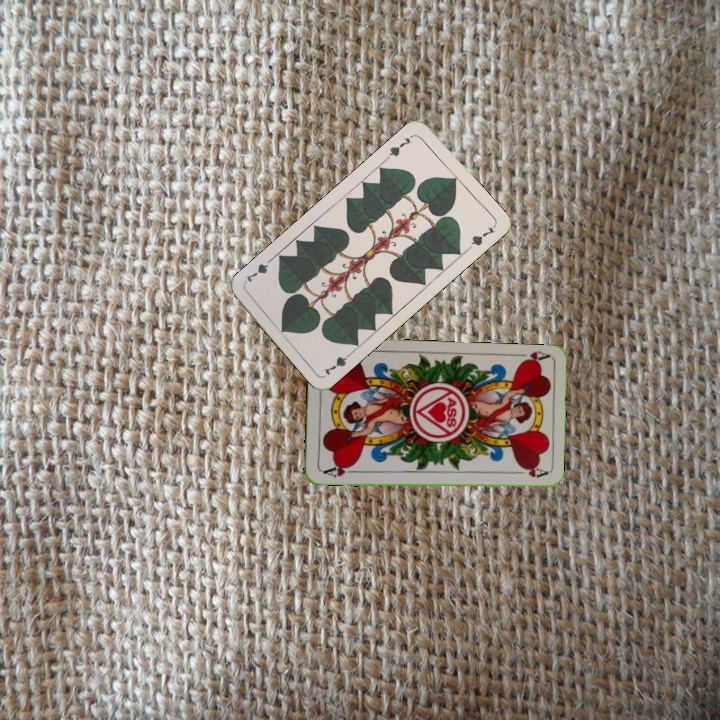G7: (320, 347, 356, 378), (383, 133, 414, 161)
HA: (511, 347, 552, 367), (319, 461, 359, 480)
